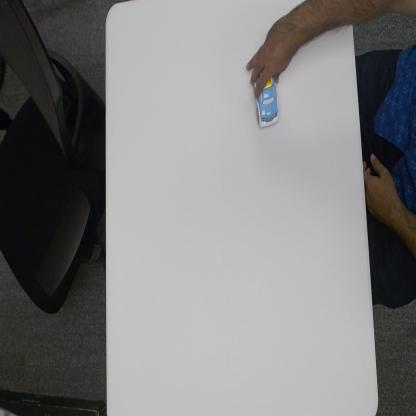Arm: (296, 0, 353, 50)
Car: (254, 72, 280, 130)
Hand: (245, 13, 295, 98)
